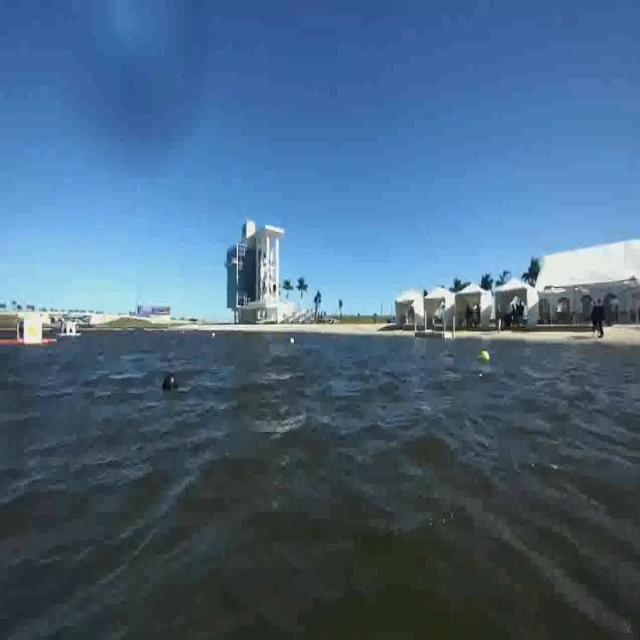black-buoy: (164, 372, 178, 395)
yellow-buoy: (481, 350, 491, 363)
